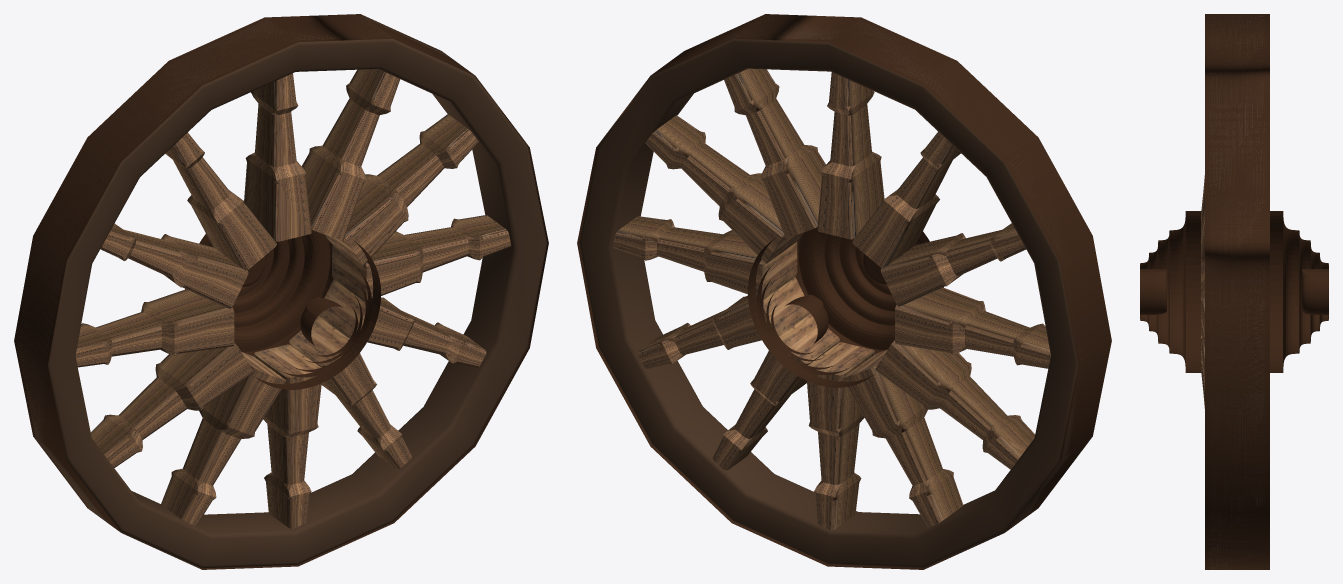
The model's file is wheel.glb.
3 views of the same model, side by side, from view 1: azimuth 30°, elevation 25°; view 2: azimuth 150°, elevation 25°; view 3: azimuth 270°, elevation 25° (orthographic). The views are drawn at different scales.
Parts seen in each view (by area): view 1: wheel; view 2: wheel; view 3: wheel.
Part boxes in pixels (x1=…): wheel: x1=14, y1=14, x2=548, y2=569; wheel: x1=577, y1=14, x2=1111, y2=569; wheel: x1=1140, y1=14, x2=1328, y2=569.
Size of the model in its own units: 3.65 by 3.65 by 1.24.
Materials: 4 (4 with a texture image).
